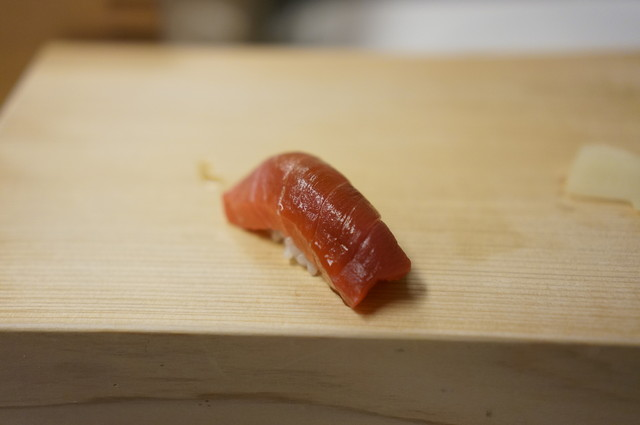medium_fatty_tuna: (224, 151, 413, 312)
